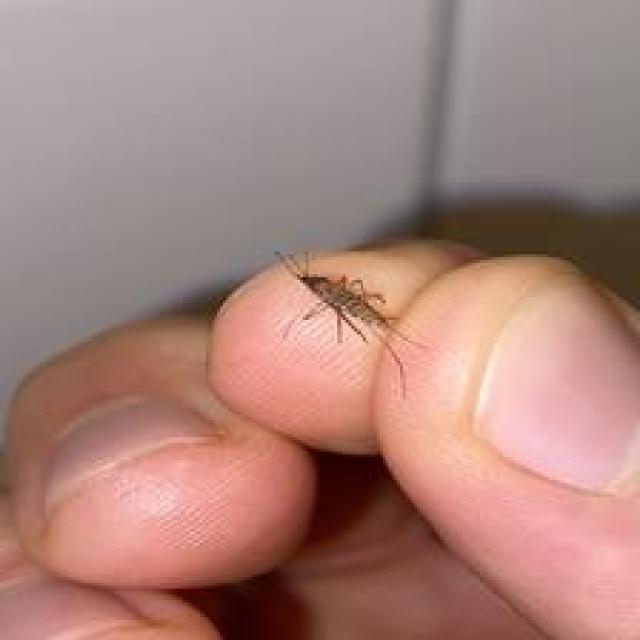Culex: (271, 247, 426, 399)
